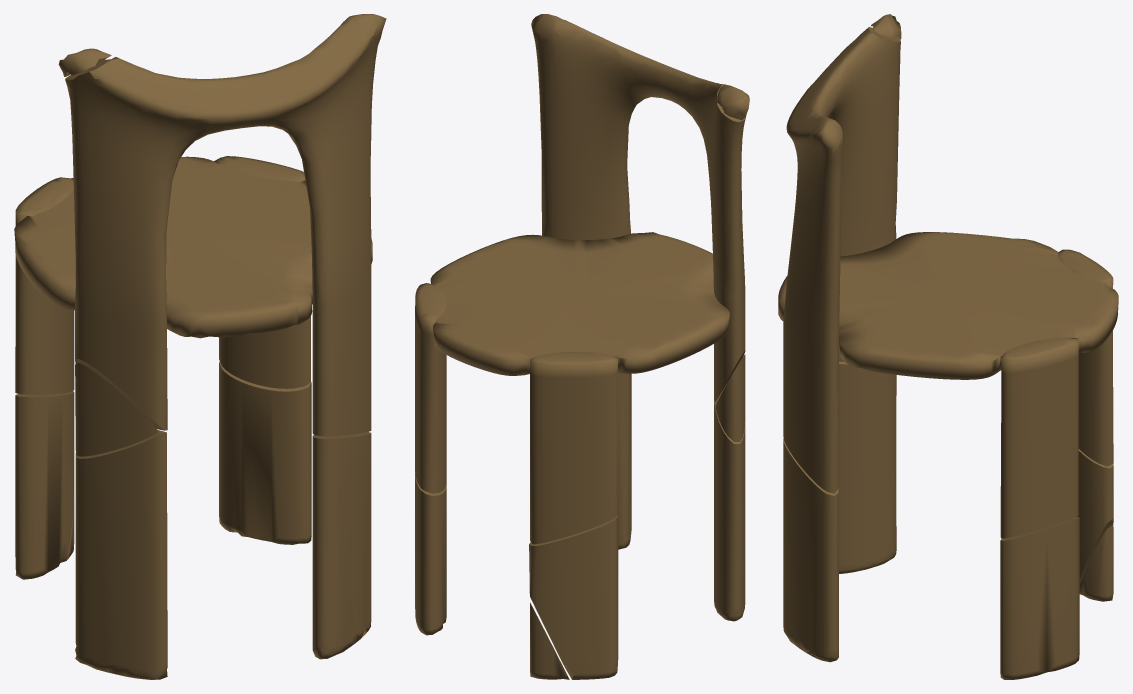
Rendered from StoolShattered.fbx.
The picture shows the model from 3 angles, left to right: view 1: azimuth 30°, elevation 25°; view 2: azimuth 150°, elevation 25°; view 3: azimuth 270°, elevation 25°; orthographic projection. The views are drawn at different scales.
Visible parts, largest first — view 1: Stool_01_cell.006, Stool_01_cell.002, Stool_01_cell.007, Stool_01_cell.005, Stool_01_cell.004, Stool_01_cell.008, Stool_01_cell, Stool_01_cell.003; view 2: Stool_01_cell.002, Stool_01_cell.006, Stool_01_cell.008, Stool_01_cell.007, Stool_01_cell.005, Stool_01_cell.004, Stool_01_cell, Stool_01_cell.001, Stool_01_cell.003; view 3: Stool_01_cell.002, Stool_01_cell.006, Stool_01_cell.005, Stool_01_cell.007, Stool_01_cell.004, Stool_01_cell.008, Stool_01_cell.001, Stool_01_cell.003.
Boxes of the visible parts, bbox=[...] form: Stool_01_cell.006: bbox=[65, 14, 386, 436]; Stool_01_cell.002: bbox=[14, 156, 372, 394]; Stool_01_cell.007: bbox=[75, 430, 167, 679]; Stool_01_cell.005: bbox=[219, 361, 311, 544]; Stool_01_cell.004: bbox=[312, 432, 371, 659]; Stool_01_cell.008: bbox=[15, 391, 74, 579]; Stool_01_cell: bbox=[75, 363, 158, 456]; Stool_01_cell.003: bbox=[58, 48, 111, 76]; Stool_01_cell.002: bbox=[415, 232, 729, 544]; Stool_01_cell.006: bbox=[531, 14, 746, 401]; Stool_01_cell.008: bbox=[529, 515, 618, 679]; Stool_01_cell.007: bbox=[714, 384, 745, 621]; Stool_01_cell.005: bbox=[415, 472, 446, 635]; Stool_01_cell.004: bbox=[617, 372, 631, 549]; Stool_01_cell: bbox=[715, 354, 745, 441]; Stool_01_cell.001: bbox=[530, 602, 569, 679]; Stool_01_cell.003: bbox=[717, 84, 749, 120]; Stool_01_cell.002: bbox=[778, 232, 1118, 538]; Stool_01_cell.006: bbox=[783, 27, 900, 493]; Stool_01_cell.005: bbox=[1000, 516, 1079, 679]; Stool_01_cell.007: bbox=[839, 361, 896, 573]; Stool_01_cell.004: bbox=[783, 439, 838, 662]; Stool_01_cell.008: bbox=[1077, 449, 1113, 584]; Stool_01_cell.001: bbox=[1079, 525, 1113, 601]; Stool_01_cell.003: bbox=[871, 14, 901, 39].
Size of the model in its own units: 31.76 by 55.3 by 30.11.
